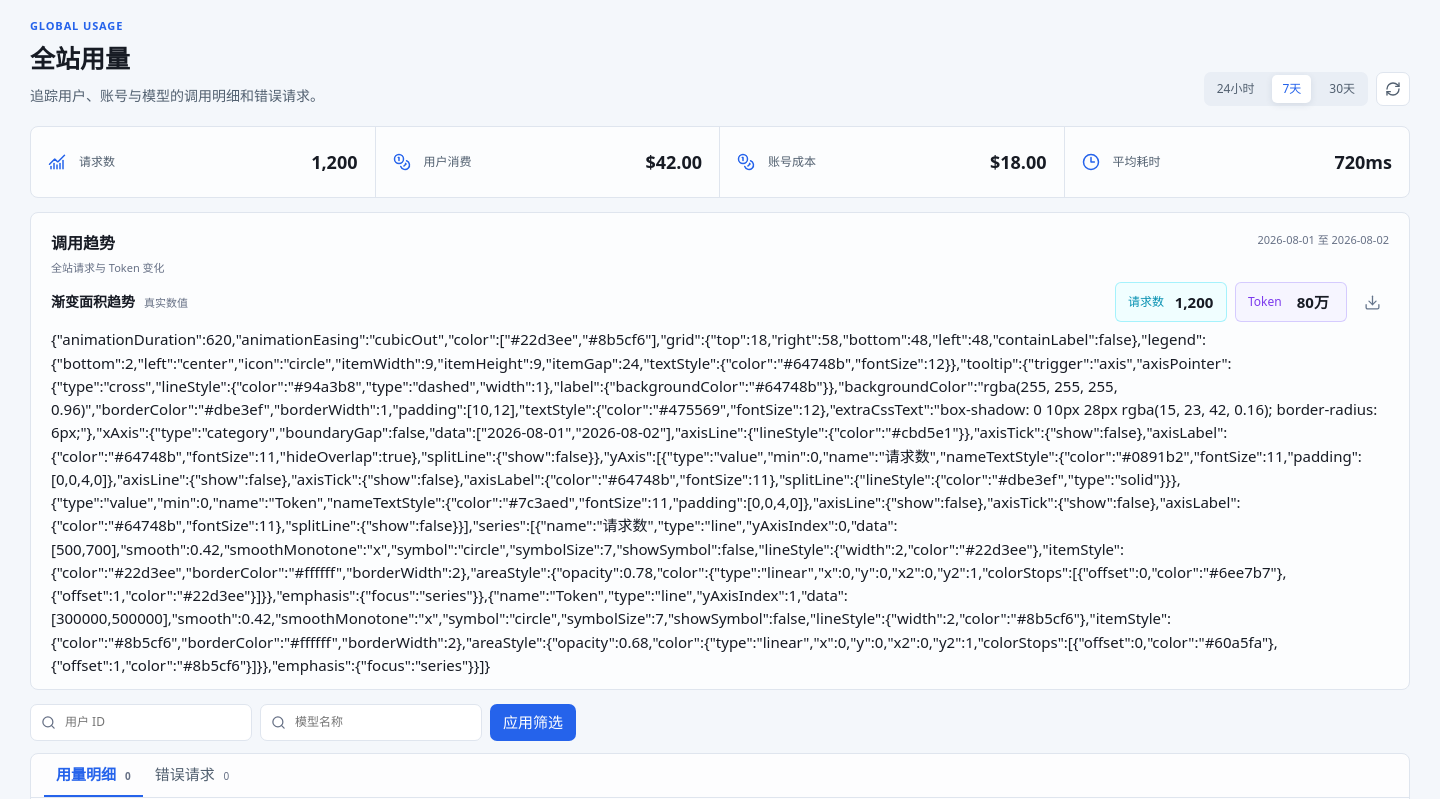
AdminUsageView › shows empty states for records and errors
What coordinates should you click on to do the following:
click the button with test id "usage-errors-tab"
I would click on:
 (192, 776)
Its box is left=143, top=754, right=241, bottom=797.
(page scrolled)
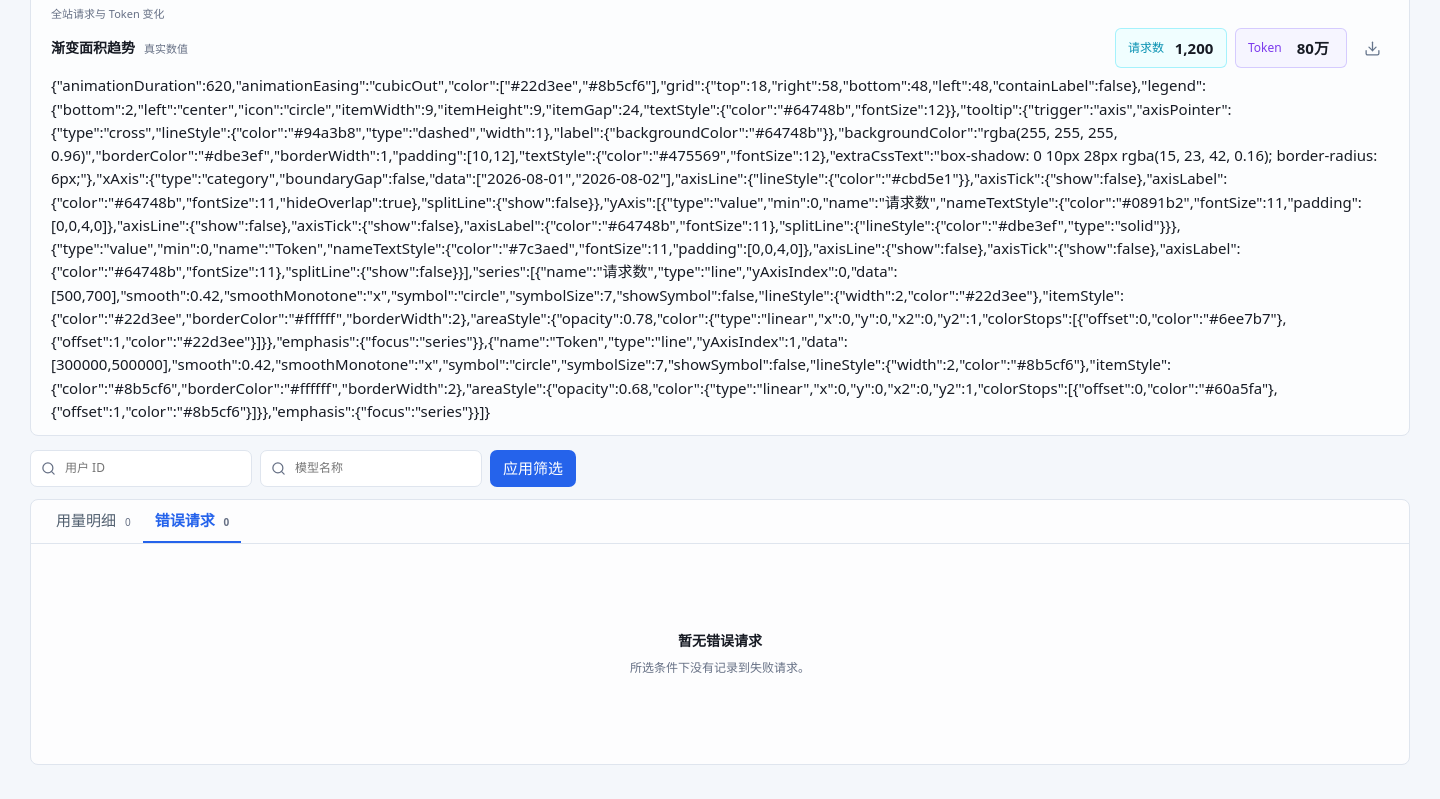
Expected: the element with test id "usage-errors-empty" shows "暂无错误请求", left=678, top=631, right=762, bottom=650
